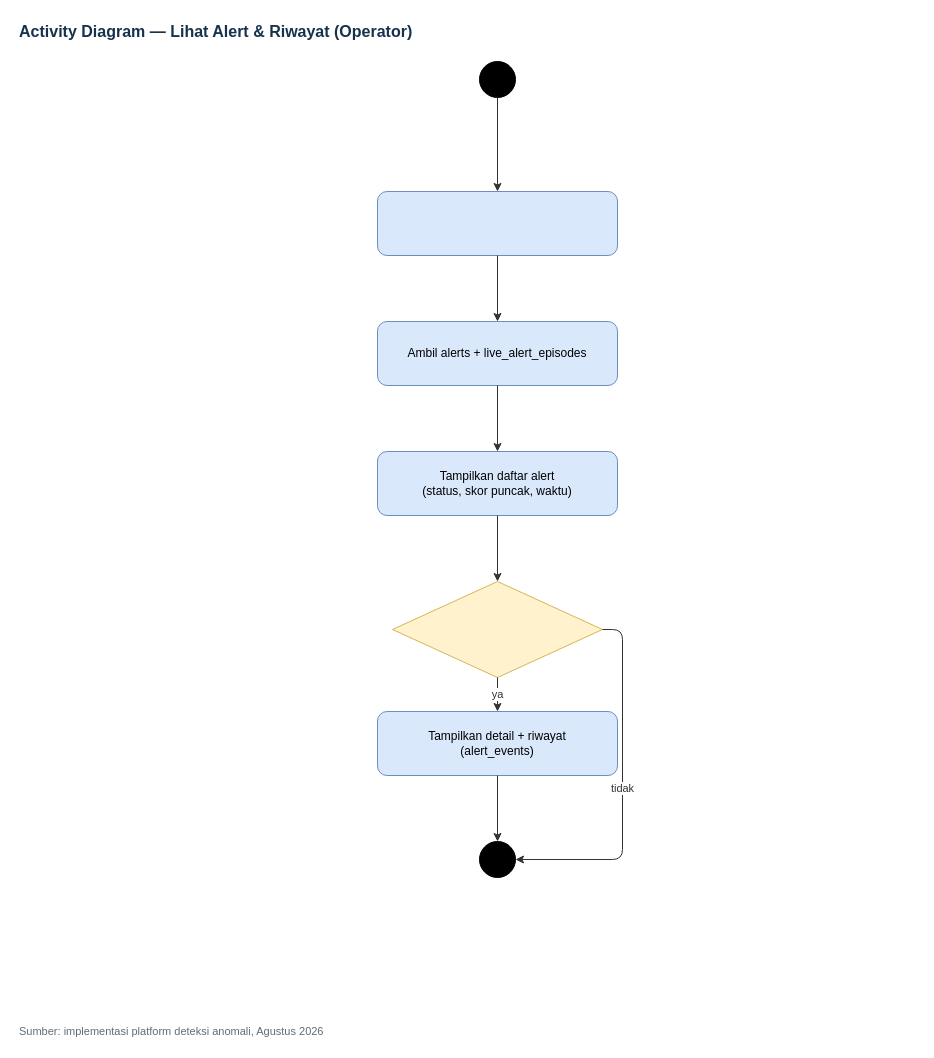
This 934x1058 diagram has some shape labels left out. Here are the shapes that lost their labels. From the top down, the centre of each, then its label:
At (497,223): "Operator buka daftar alert".
At (497,629): "Pilih satu alert?".
